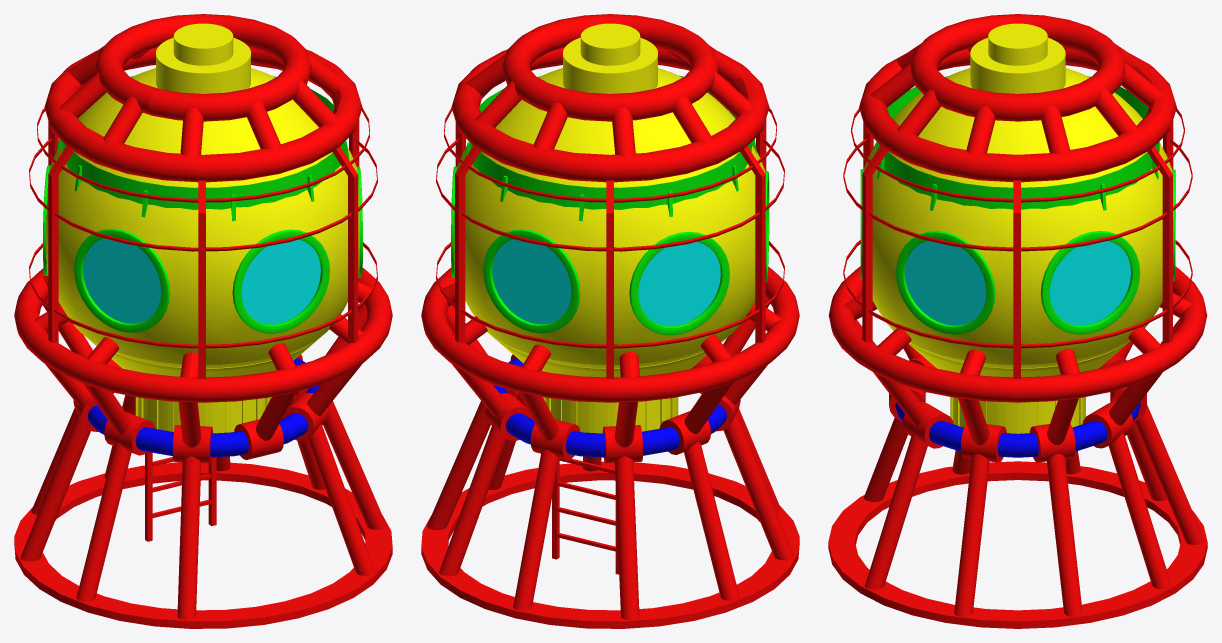
File: Divingbell.fbx
3 renders of one model, left to right at view 1: azimuth 30°, elevation 25°; view 2: azimuth 150°, elevation 25°; view 3: azimuth 270°, elevation 25°, orthographic.
Visible parts, largest first — view 1: Cylinder_Bottom, Base, Cylinders_Top, Sides, Base_Top, Window_Glass, Window_Glass.001, TopCover, MetalBeam, Window_Original, Window_Original.001, SmallCylinder_1.002 (+6 smaller); view 2: Cylinder_Bottom, Base, Cylinders_Top, Sides, Base_Top, Window_Glass.002, Window_Glass.003, TopCover, MetalBeam, Window_Original.002, Window_Original.003, Base.003 (+6 smaller); view 3: Cylinder_Bottom, Base, Cylinders_Top, Sides, TopCover, Base_Top, Window_Glass.004, Window_Glass.005, MetalBeam, Window_Original.004, Window_Original.005, SmallCylinder_1.002 (+3 smaller).
Boxes of the visible parts, <box> form: Cylinder_Bottom: <box>14,268,392,628</box>; Base: <box>46,68,359,432</box>; Cylinders_Top: <box>44,14,362,182</box>; Sides: <box>48,119,359,378</box>; Base_Top: <box>156,23,250,93</box>; Window_Glass: <box>241,239,320,324</box>; Window_Glass.001: <box>83,238,161,323</box>; TopCover: <box>62,75,343,209</box>; MetalBeam: <box>87,358,320,457</box>; Window_Original: <box>232,229,329,333</box>; Window_Original.001: <box>74,228,169,332</box>; SmallCylinder_1.002: <box>29,137,377,251</box>; Cylinder_Bottom: <box>421,266,799,628</box>; Base: <box>454,68,764,432</box>; Cylinders_Top: <box>451,14,769,182</box>; Sides: <box>455,119,766,378</box>; Base_Top: <box>563,23,657,93</box>; Window_Glass.002: <box>638,241,720,326</box>; Window_Glass.003: <box>492,239,571,324</box>; TopCover: <box>470,75,751,209</box>; MetalBeam: <box>494,358,727,457</box>; Window_Original.002: <box>629,231,729,335</box>; Window_Original.003: <box>483,229,580,333</box>; Base.003: <box>545,397,670,433</box>; Cylinder_Bottom: <box>828,266,1207,628</box>; Base: <box>863,68,1172,433</box>; Cylinders_Top: <box>859,14,1176,182</box>; Sides: <box>862,120,1173,378</box>; TopCover: <box>876,76,1159,209</box>; Base_Top: <box>970,23,1065,93</box>; Window_Glass.004: <box>1049,241,1130,325</box>; Window_Glass.005: <box>905,241,986,325</box>; MetalBeam: <box>895,402,1140,457</box>; Window_Original.004: <box>1040,231,1140,334</box>; Window_Original.005: <box>896,231,995,334</box>; SmallCylinder_1.002: <box>843,138,1192,251</box>.
Size of the model in its own units: 601 by 897 by 601.
